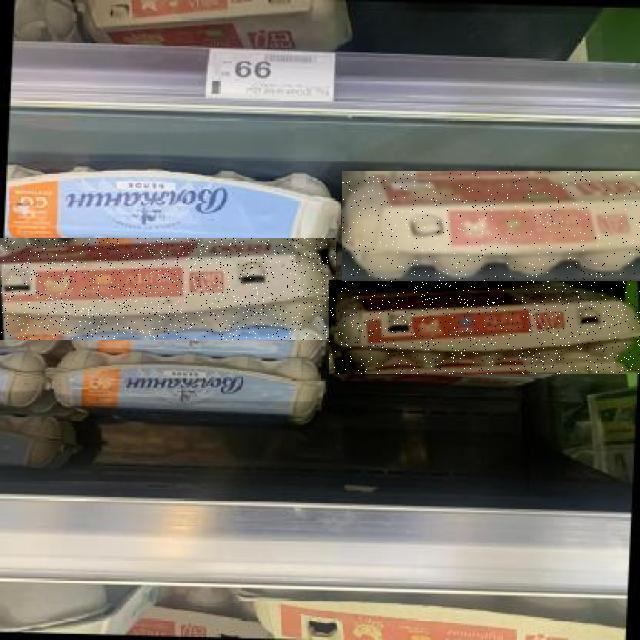Eggs: (1, 238, 337, 340), (342, 171, 640, 281), (329, 280, 640, 374)
